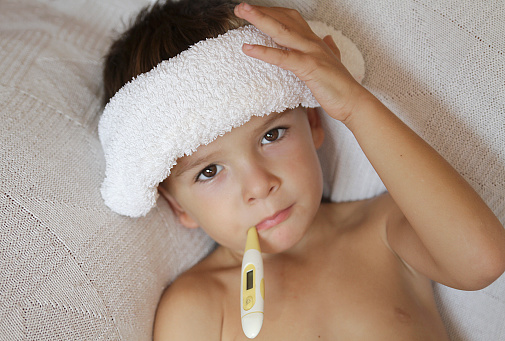deitado: (56, 11, 504, 341)
